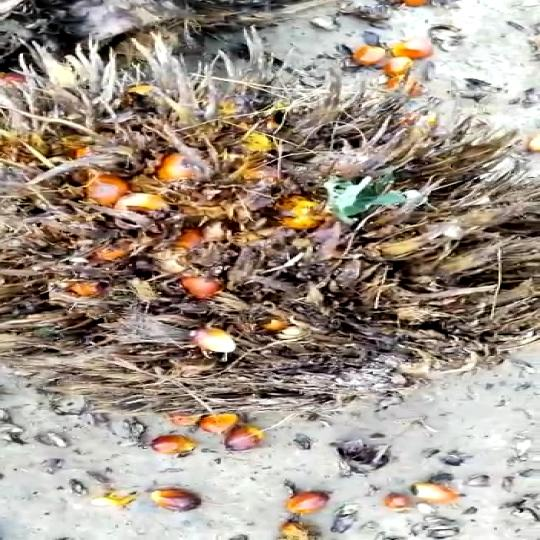terlalu masak: (0, 45, 540, 424)
